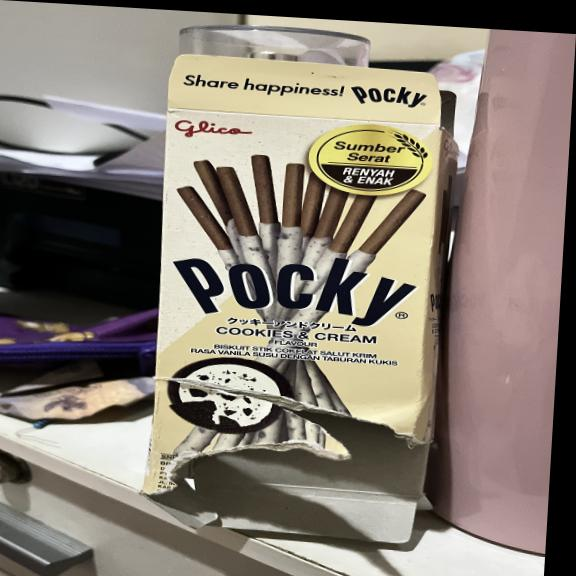Kertas: (154, 109, 446, 505)
